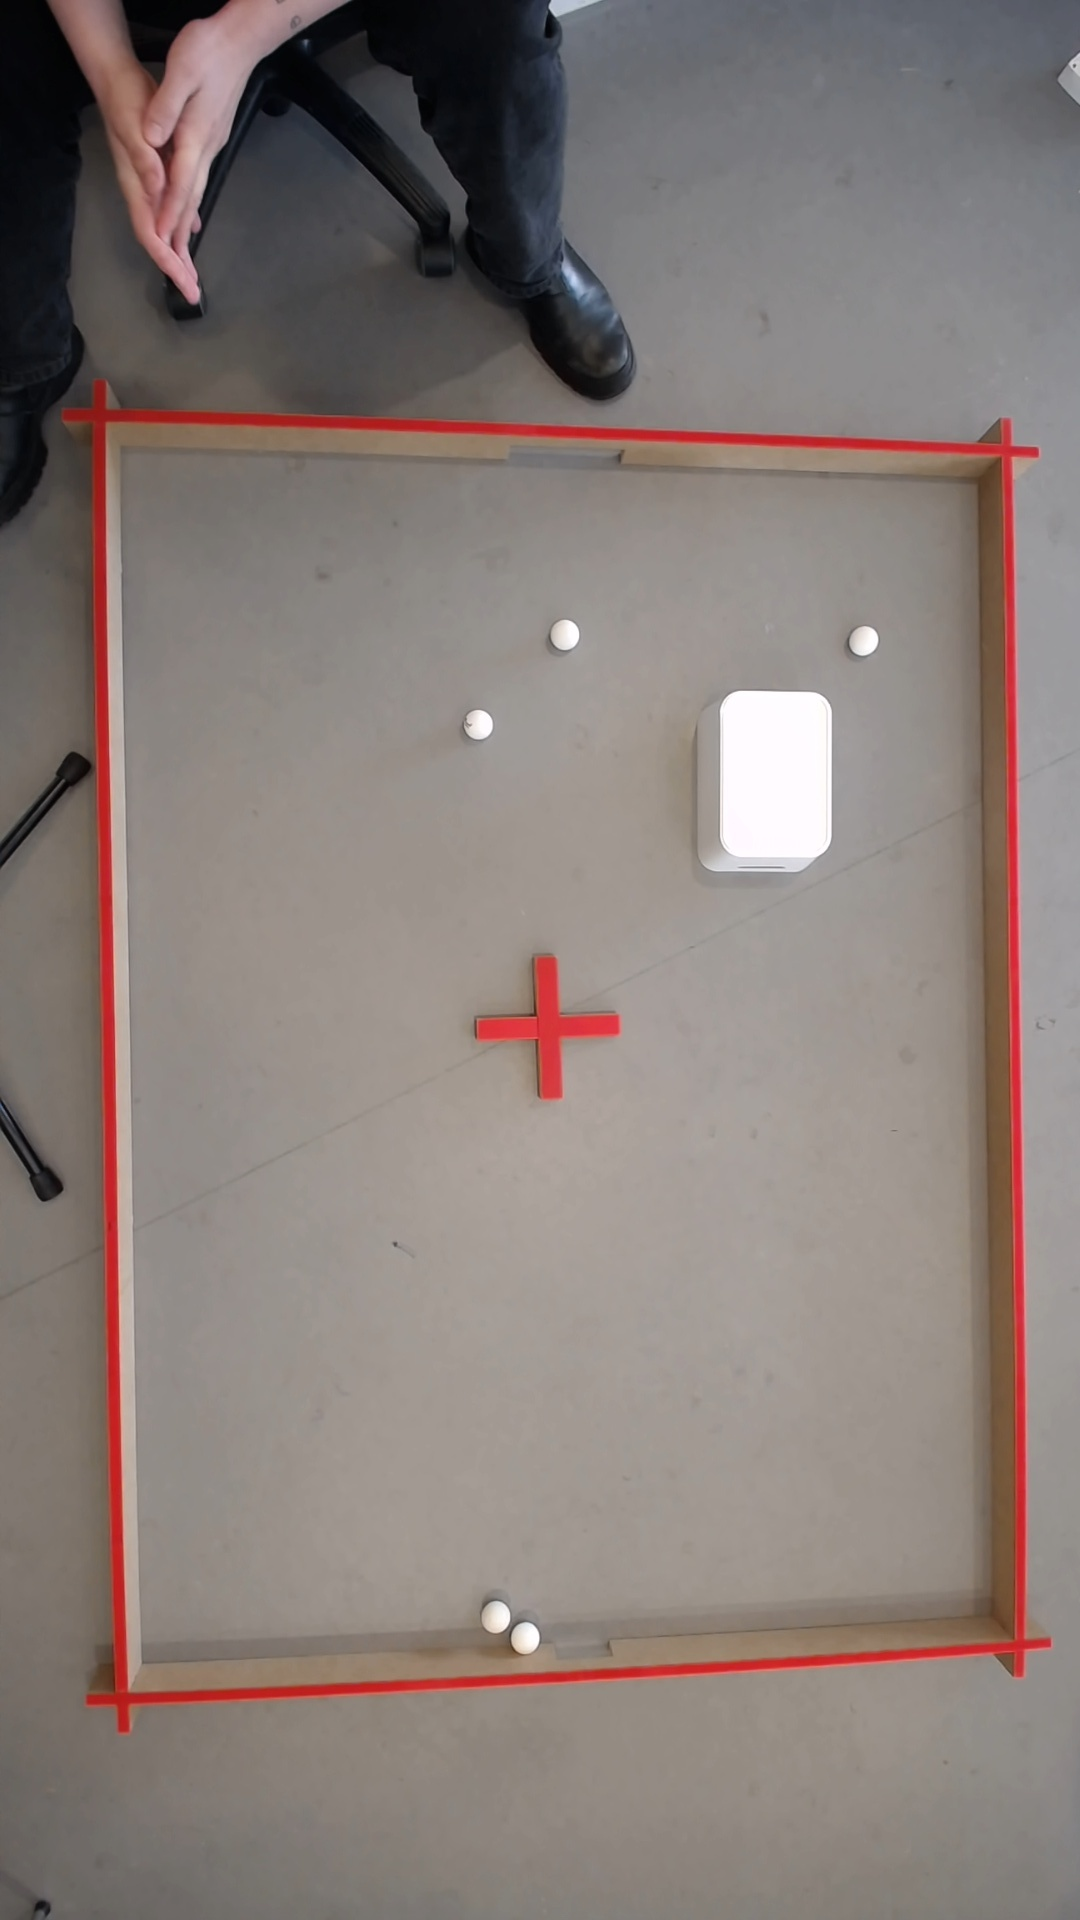balls: (196, 50, 229, 99), (549, 616, 584, 653), (463, 707, 497, 742), (484, 1600, 516, 1634), (851, 624, 881, 659), (182, 132, 203, 170), (516, 1622, 539, 1651)
car: (193, 158, 208, 194)
